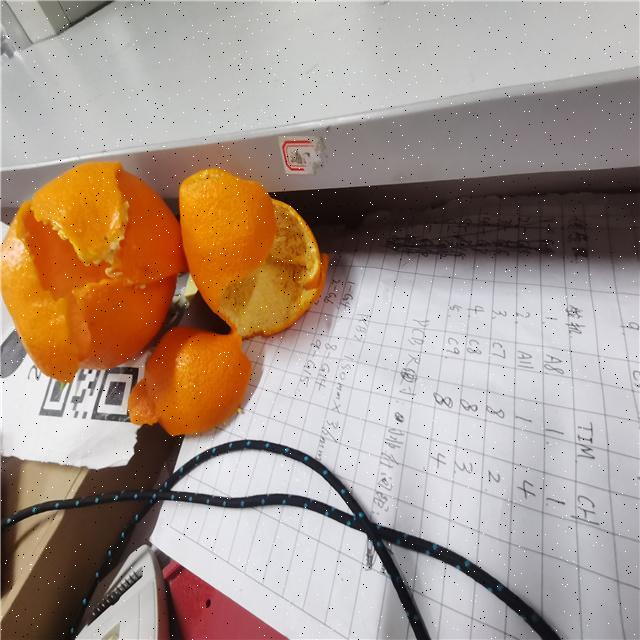orange-peel: (1, 158, 329, 436), (1, 159, 184, 383), (128, 324, 252, 436)
